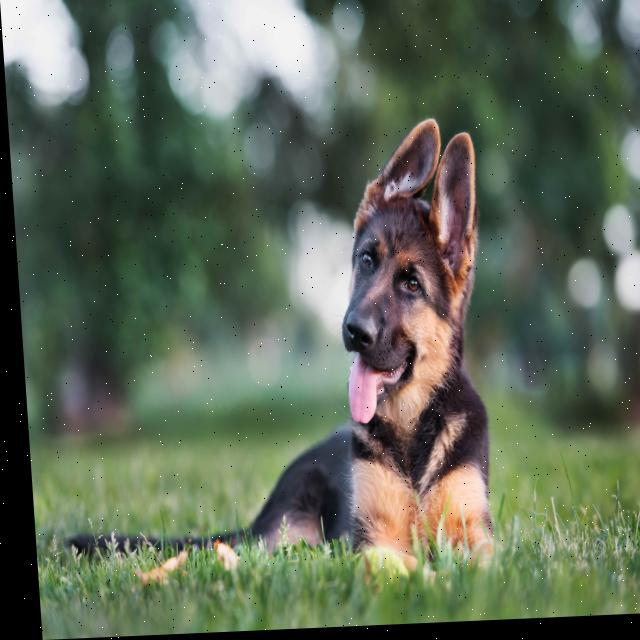GERMAN_SHEPHERD: (29, 118, 509, 606)
